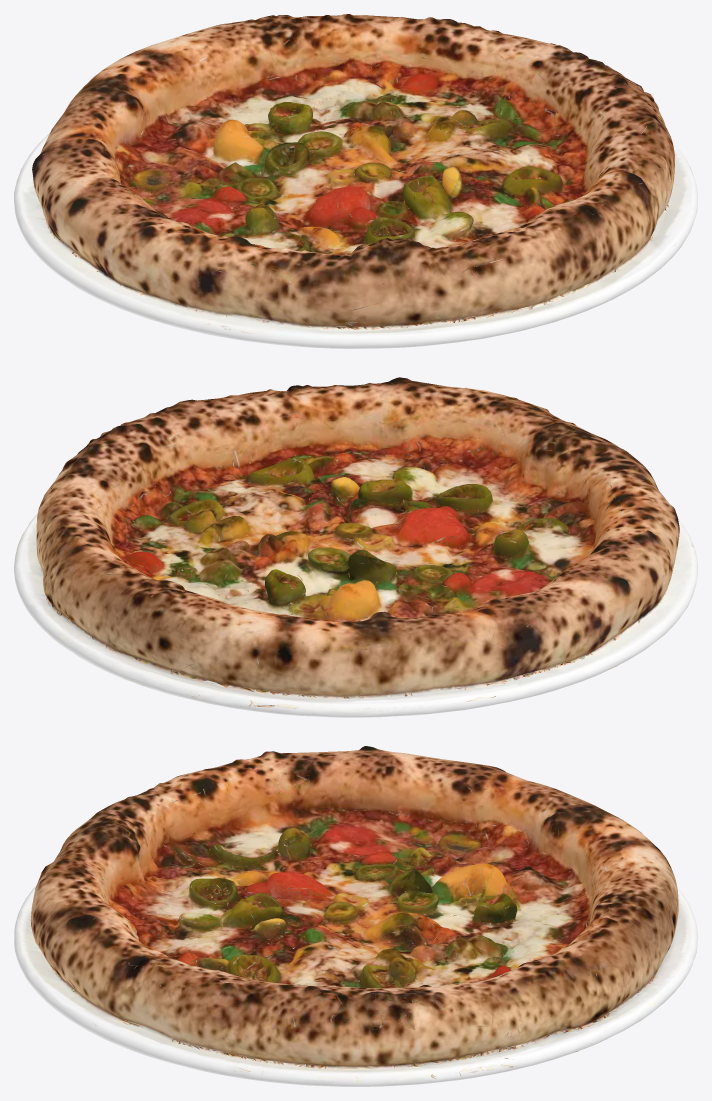
File: dish.glb
3 views of the same model, one above another, from view 1: azimuth 30°, elevation 25°; view 2: azimuth 150°, elevation 25°; view 3: azimuth 270°, elevation 25° (orthographic).
Parts seen in each view (by area): view 1: Mesh1.0; view 2: Mesh1.0; view 3: Mesh1.0.
Boxes of the visible parts, x1=… form: Mesh1.0: x1=14, y1=14, x2=697, y2=348; Mesh1.0: x1=14, y1=377, x2=697, y2=717; Mesh1.0: x1=14, y1=746, x2=697, y2=1086.
Size of what is drawn, in the model's own units: 0.2092 by 0.03 by 0.2092.
Materials: 1 (1 with a texture image).
